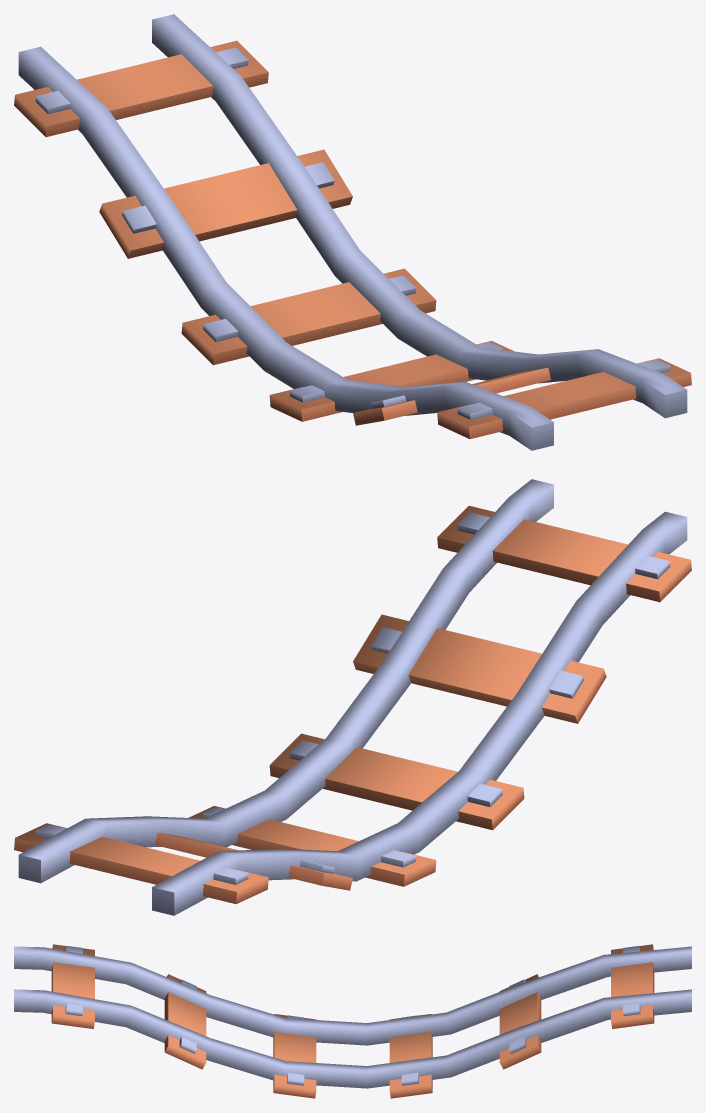
The model's file is railroad-straight-bump-down.glb.
3 renders of one model, top to bottom at view 1: azimuth 30°, elevation 25°; view 2: azimuth 150°, elevation 25°; view 3: azimuth 270°, elevation 25°, orthographic. The views are drawn at different scales.
Parts seen in each view (by area): view 1: railroad-straight-bump-down; view 2: railroad-straight-bump-down; view 3: railroad-straight-bump-down.
Part boxes in pixels (x1=…): railroad-straight-bump-down: x1=14, y1=14, x2=691, y2=450; railroad-straight-bump-down: x1=14, y1=479, x2=691, y2=915; railroad-straight-bump-down: x1=14, y1=944, x2=691, y2=1098.
Size of the model in its own units: 1 by 0.5987 by 4.
Materials: 1 (1 with a texture image).
